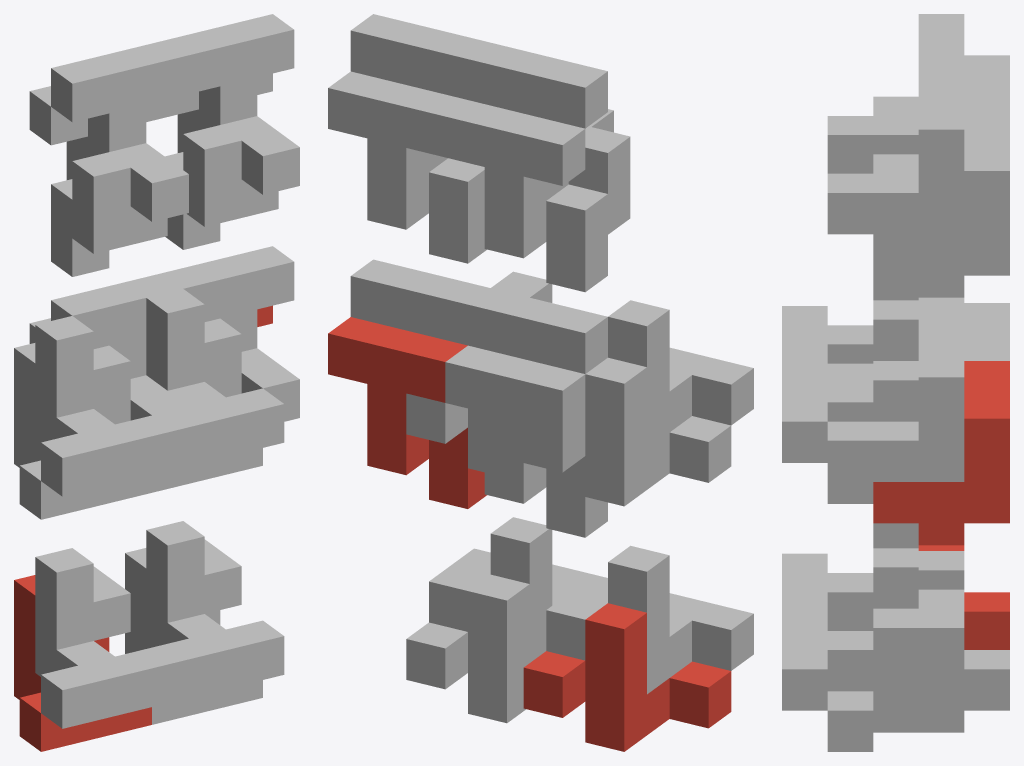
File: tiling.obj
3 views of the same model, side by side, from view 1: azimuth 30°, elevation 25°; view 2: azimuth 150°, elevation 25°; view 3: azimuth 270°, elevation 25° (orthographic). The views are drawn at different scales.
Parts seen in each view (by area): view 1: copy_2_domain_4, copy_2_domain_8, copy_1_domain_2, copy_1_domain_4, copy_1_domain_6, copy_1_domain_8, copy_2_domain_6, copy_2_domain_2, copy_2_domain_3, copy_1_domain_1, copy_1_domain_3, copy_1_domain_5 (+2 smaller); view 2: copy_2_domain_3, copy_2_domain_7, copy_1_domain_1, copy_2_domain_1, copy_1_domain_3, copy_2_domain_5, copy_1_domain_2, copy_2_domain_4, copy_1_domain_5, copy_1_domain_4, copy_1_domain_6, copy_2_domain_2 (+4 smaller); view 3: copy_1_domain_6, copy_2_domain_8, copy_2_domain_6, copy_2_domain_7, copy_2_domain_5, copy_1_domain_8, copy_1_domain_5, copy_1_domain_2, copy_2_domain_4, copy_1_domain_4, copy_1_domain_1, copy_2_domain_1 (+3 smaller).
Boxes of the visible parts, <box> form: copy_2_domain_4: <box>51,41,188,253</box>; copy_2_domain_8: <box>162,14,299,226</box>; copy_1_domain_2: <box>35,548,173,728</box>; copy_1_domain_4: <box>35,316,173,496</box>; copy_1_domain_6: <box>146,521,284,701</box>; copy_1_domain_8: <box>146,289,284,469</box>; copy_2_domain_6: <box>162,246,299,421</box>; copy_2_domain_2: <box>51,273,188,424</box>; copy_2_domain_3: <box>29,86,167,276</box>; copy_1_domain_1: <box>14,575,151,751</box>; copy_1_domain_3: <box>14,343,151,519</box>; copy_1_domain_5: <box>125,548,262,724</box>; copy_2_domain_3: <box>445,100,607,292</box>; copy_2_domain_7: <box>328,71,486,263</box>; copy_1_domain_1: <box>523,603,731,751</box>; copy_2_domain_1: <box>445,345,607,537</box>; copy_1_domain_3: <box>523,357,731,506</box>; copy_2_domain_5: <box>328,317,486,508</box>; copy_1_domain_2: <box>546,545,753,694</box>; copy_2_domain_4: <box>468,42,630,234</box>; copy_1_domain_5: <box>406,574,529,723</box>; copy_1_domain_4: <box>608,300,753,448</box>; copy_1_domain_6: <box>429,517,607,662</box>; copy_2_domain_2: <box>468,288,607,373</box>; copy_1_domain_6: <box>782,548,964,710</box>; copy_2_domain_8: <box>827,71,964,234</box>; copy_2_domain_6: <box>827,319,964,481</box>; copy_2_domain_7: <box>873,113,1009,297</box>; copy_2_domain_5: <box>873,361,1009,545</box>; copy_1_domain_8: <box>782,300,918,462</box>; copy_1_domain_5: <box>827,589,1009,751</box>; copy_1_domain_2: <box>782,523,964,630</box>; copy_2_domain_4: <box>827,14,964,173</box>; copy_1_domain_4: <box>782,275,918,363</box>; copy_1_domain_1: <box>918,545,1009,649</box>; copy_2_domain_1: <box>964,303,1009,360</box>.
Bounding box in the file's own units: 8 × 16 × 5.
